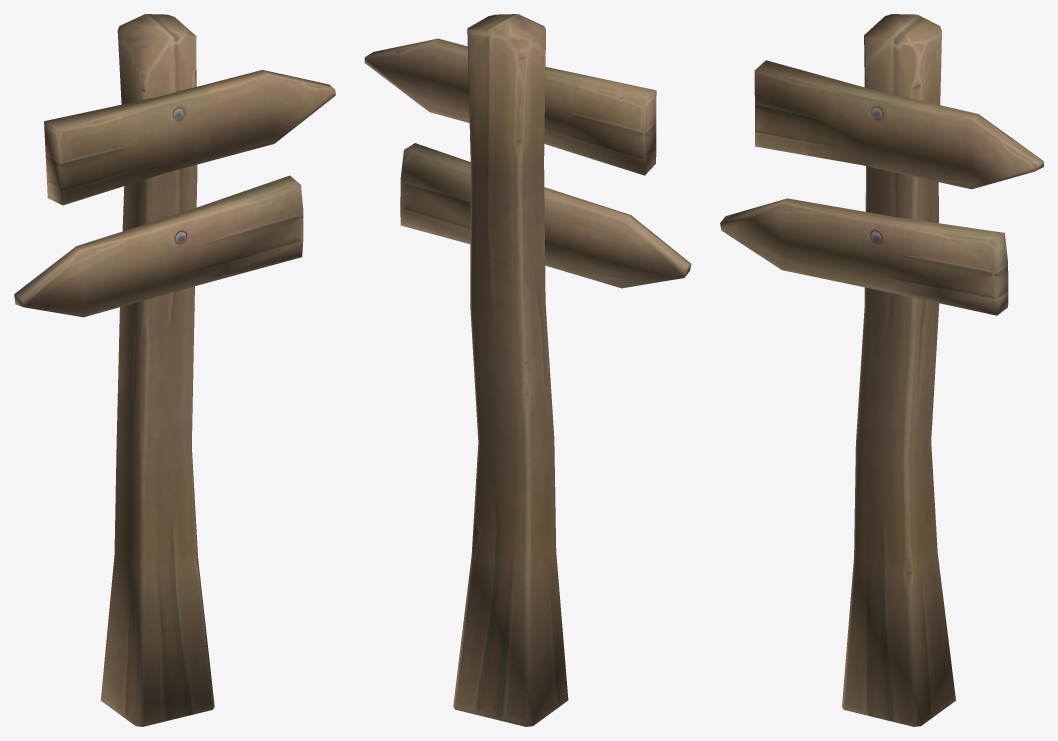
Rendered from SignPost_2.fbx.
3 renders of one model, left to right at view 1: azimuth 30°, elevation 25°; view 2: azimuth 150°, elevation 25°; view 3: azimuth 330°, elevation 25°, orthographic.
Parts seen in each view (by area): view 1: SignPost_2_LOD0; view 2: SignPost_2_LOD0; view 3: SignPost_2_LOD0.
Part boxes in pixels (x1,y1,x2,y2): SignPost_2_LOD0: (14,14,335,726); SignPost_2_LOD0: (364,14,691,726); SignPost_2_LOD0: (720,14,1043,726).
Size of the model in its own units: 91.95 by 188 by 22.31.
